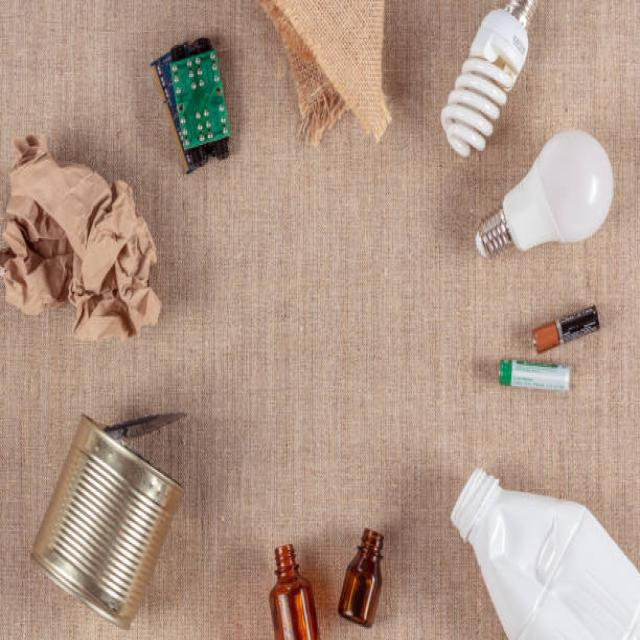glass: (426, 12, 622, 266), (260, 517, 402, 634)
metal: (22, 404, 178, 628)
paper: (3, 131, 175, 351)
